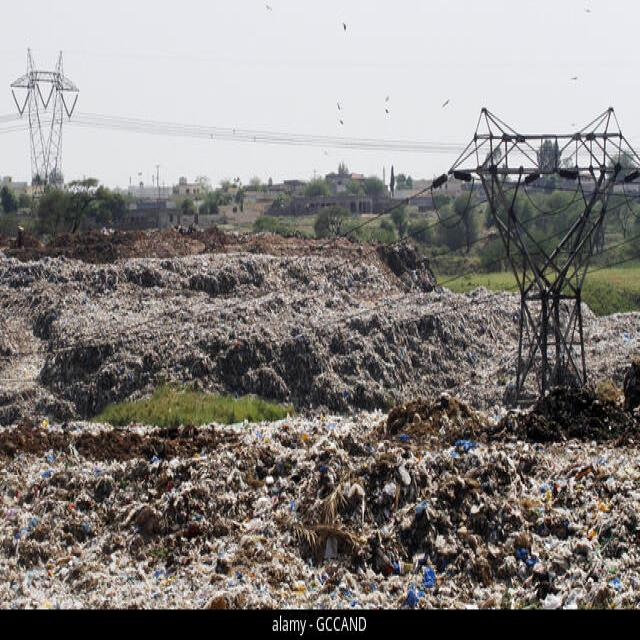trash: (31, 260, 506, 608), (520, 423, 629, 593)
